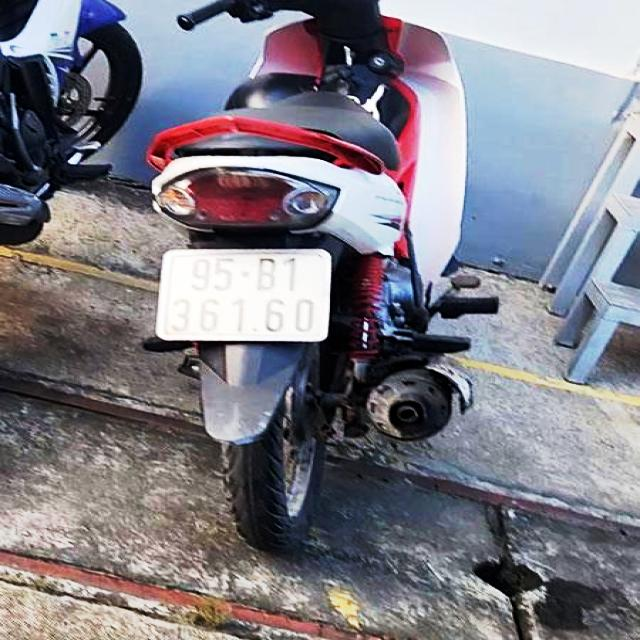license_plate: (161, 250, 331, 341)
